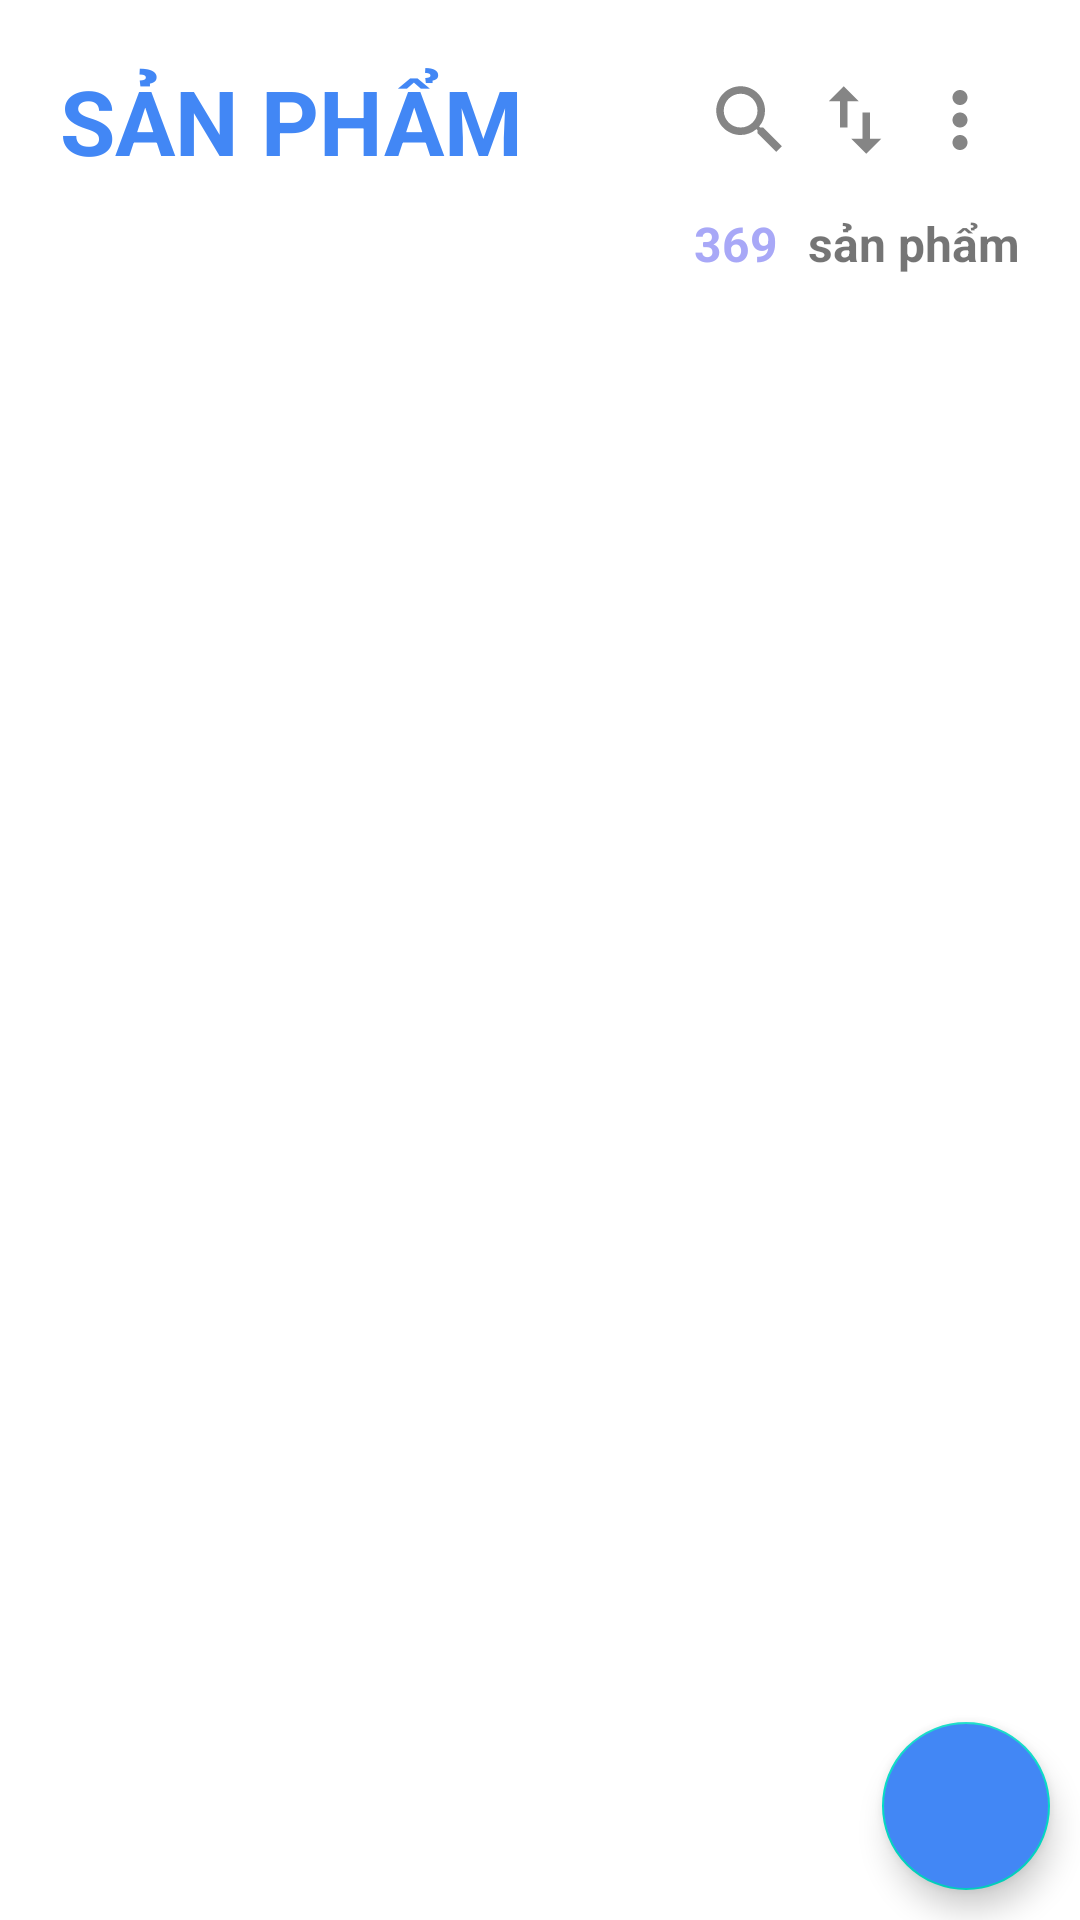

Icon click points for this 1080px x 1920px phone screenshot, format [x,y]:
more vert: [960,120]
search: [749,119]
swap vert: [855,120]
